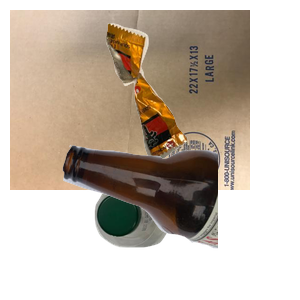cardboard: (10, 10, 250, 190)
glass: (60, 142, 300, 300)
plastic: (92, 176, 257, 300)
trash: (103, 21, 300, 174)
